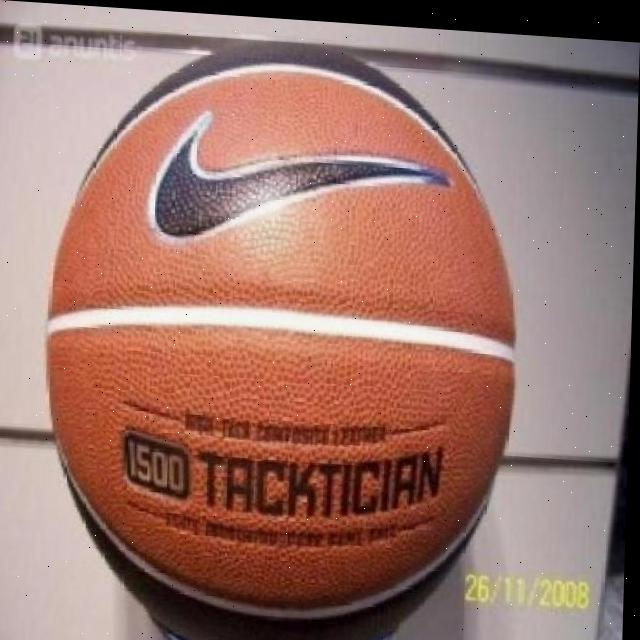Basketball: (39, 29, 523, 640)
